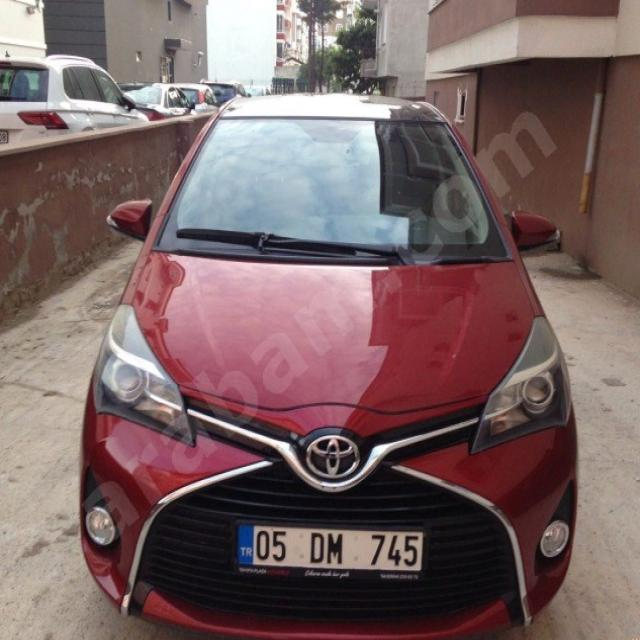license_plate: (235, 524, 426, 572)
